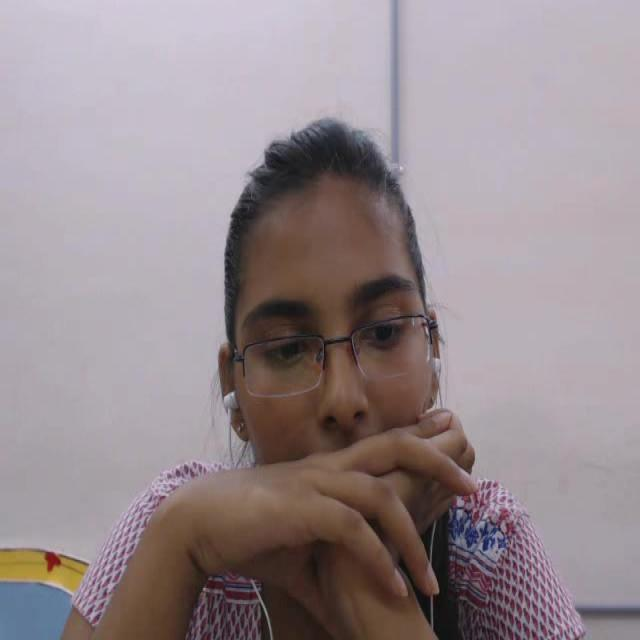Bored: (201, 98, 471, 574)
